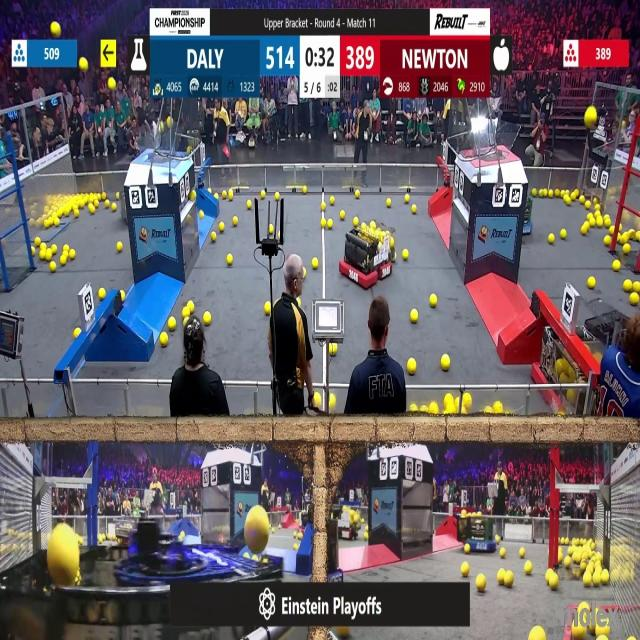ball_airborne: (586, 106, 598, 126), (50, 23, 59, 37), (79, 59, 87, 72), (108, 78, 115, 89), (165, 119, 171, 129), (162, 119, 166, 128)
ball_ground: (530, 628, 544, 640), (442, 354, 452, 370), (478, 576, 487, 593), (503, 570, 512, 586), (550, 574, 559, 589), (314, 392, 322, 408), (409, 358, 417, 373), (204, 312, 212, 326), (497, 570, 505, 584), (594, 572, 602, 586), (630, 291, 638, 304), (461, 563, 469, 576), (584, 573, 592, 586), (462, 393, 470, 406), (328, 394, 335, 408), (602, 570, 609, 584), (162, 334, 169, 347), (412, 310, 419, 323), (525, 562, 532, 575), (592, 217, 601, 227), (624, 281, 632, 292), (494, 404, 502, 415), (169, 318, 176, 330), (429, 294, 436, 306), (312, 257, 319, 269), (614, 262, 622, 272), (187, 303, 195, 313), (430, 405, 438, 415), (266, 303, 272, 316), (589, 278, 596, 289), (564, 557, 571, 568), (583, 222, 589, 234), (604, 215, 610, 227), (624, 244, 631, 254), (69, 250, 76, 260), (182, 308, 189, 318), (61, 255, 68, 265), (328, 344, 335, 354), (226, 253, 232, 264), (100, 288, 106, 299), (402, 249, 408, 260), (547, 234, 553, 245), (119, 240, 125, 251), (618, 234, 624, 245), (538, 188, 546, 196), (50, 264, 56, 274), (500, 549, 506, 559), (520, 549, 526, 559), (604, 237, 610, 247), (74, 327, 80, 337), (90, 204, 96, 214), (326, 218, 332, 228), (39, 250, 45, 260), (634, 282, 640, 292), (565, 197, 571, 207), (45, 251, 51, 261), (578, 562, 584, 572), (588, 213, 595, 221), (218, 222, 224, 231), (560, 231, 566, 240), (386, 199, 392, 208), (353, 217, 359, 226), (320, 218, 326, 227), (227, 190, 233, 199), (34, 238, 40, 247), (586, 201, 592, 210), (571, 191, 577, 200), (341, 210, 346, 220), (464, 543, 469, 553), (53, 243, 58, 253), (406, 196, 412, 204), (269, 224, 275, 232), (556, 188, 562, 196), (547, 188, 553, 196), (578, 197, 584, 205), (567, 548, 573, 556), (292, 542, 298, 550), (413, 205, 418, 214), (212, 233, 217, 242), (247, 201, 252, 210), (74, 209, 79, 218), (190, 190, 195, 199), (64, 246, 69, 255), (259, 191, 265, 198), (303, 186, 309, 193), (102, 192, 108, 199), (355, 190, 360, 198), (200, 211, 205, 219), (111, 204, 116, 212), (609, 226, 614, 234), (636, 232, 640, 242), (183, 534, 187, 544), (56, 218, 61, 226), (234, 216, 238, 225), (32, 247, 36, 256), (120, 290, 124, 299), (105, 201, 110, 208), (532, 188, 537, 195), (364, 532, 368, 540), (276, 191, 280, 199), (321, 203, 325, 211), (329, 198, 333, 206), (297, 532, 301, 540), (496, 535, 500, 542), (116, 192, 120, 198), (208, 187, 212, 193), (215, 195, 218, 201)
goal: (464, 120, 522, 160), (129, 130, 190, 160)
robot_blue: (460, 513, 497, 554)
robot_red: (342, 221, 394, 286), (536, 352, 589, 414), (338, 506, 362, 541)
